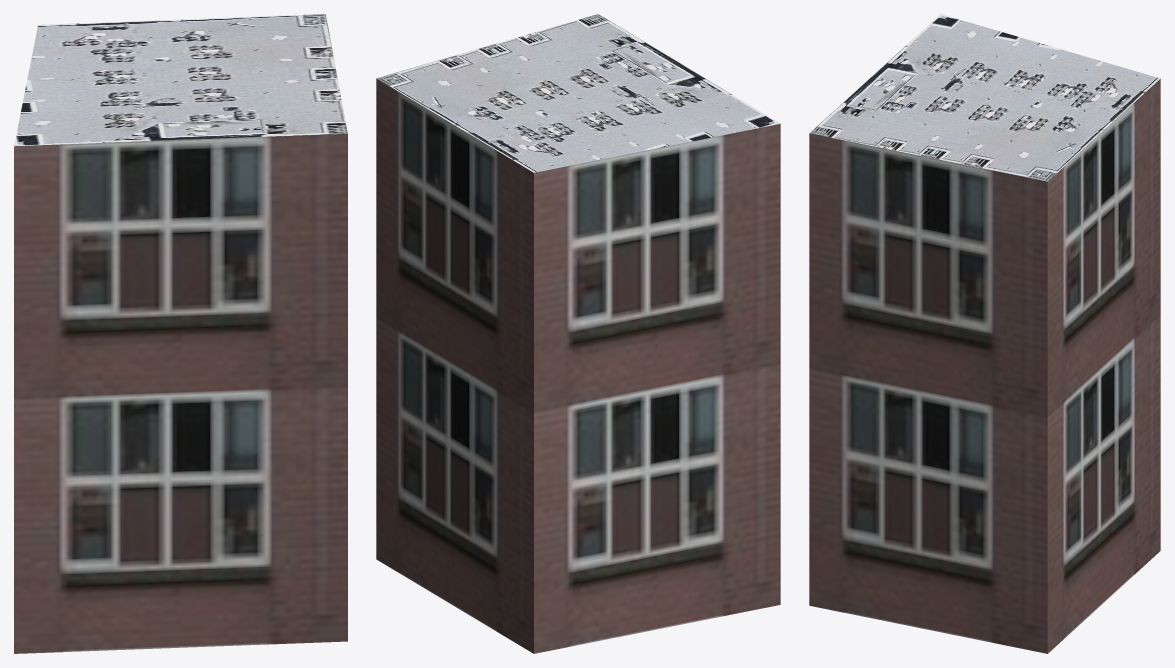
File: ResTex__2673.fbx
3 views of the same model, side by side, from view 1: azimuth 30°, elevation 25°; view 2: azimuth 150°, elevation 25°; view 3: azimuth 270°, elevation 25° (orthographic). The views are drawn at different scales.
Parts seen in each view (by area): view 1: CityEngineMaterial_12_m, CityEngineMaterial_4_m; view 2: CityEngineMaterial_12_m, CityEngineMaterial_4_m; view 3: CityEngineMaterial_12_m, CityEngineMaterial_4_m.
Part boxes in pixels (bbox=[...]): CityEngineMaterial_12_m: bbox=[14, 133, 347, 653]; CityEngineMaterial_4_m: bbox=[14, 14, 347, 146]; CityEngineMaterial_12_m: bbox=[376, 78, 780, 653]; CityEngineMaterial_4_m: bbox=[377, 14, 780, 172]; CityEngineMaterial_12_m: bbox=[809, 79, 1160, 653]; CityEngineMaterial_4_m: bbox=[809, 14, 1160, 181].
Size of the model in its own units: 4.57 by 6 by 4.05.
Materials: 2 (2 with a texture image).
